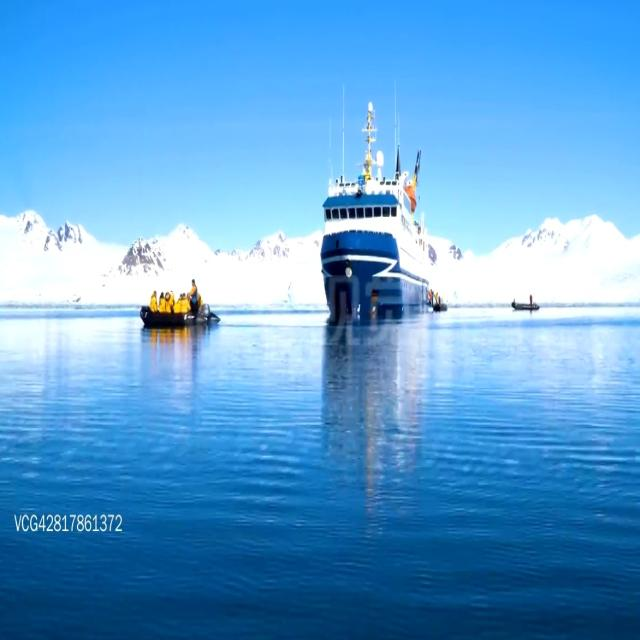houseboat: (134, 272, 215, 327), (510, 290, 540, 312), (432, 296, 448, 317)
passenger ship: (317, 100, 431, 318)
